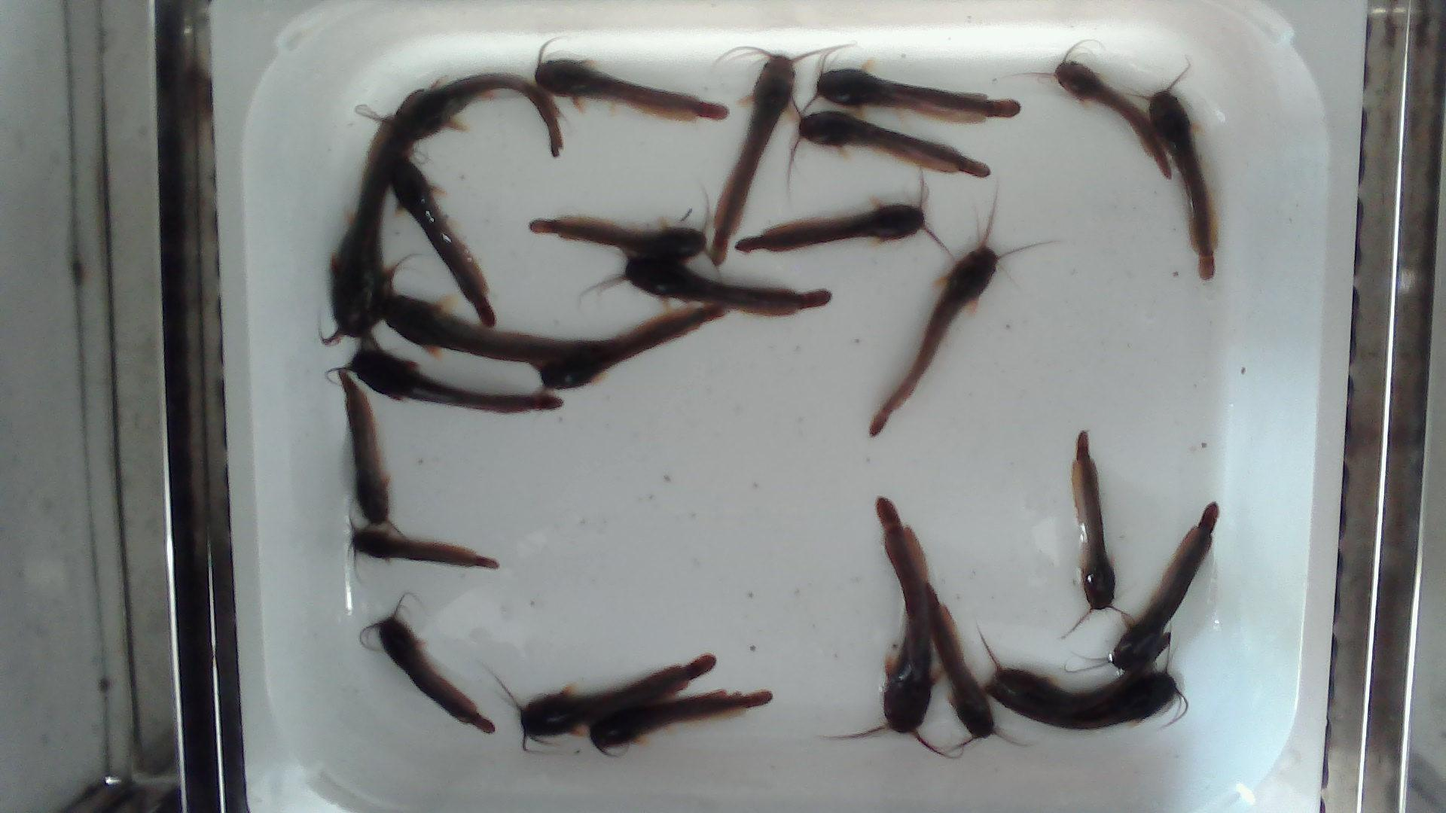lele: (872, 195, 1050, 437), (826, 500, 952, 765), (710, 44, 832, 265), (1073, 507, 1218, 672), (1119, 61, 1221, 288), (491, 654, 713, 754), (1022, 44, 1168, 174), (329, 115, 416, 333), (355, 595, 495, 730), (737, 181, 954, 261), (973, 625, 1157, 719), (393, 162, 496, 326), (386, 293, 621, 363), (932, 585, 1030, 752), (582, 249, 827, 314), (1013, 645, 1196, 731), (785, 99, 991, 175), (536, 36, 728, 116), (528, 201, 722, 280), (543, 304, 726, 387), (1066, 423, 1135, 638), (352, 347, 563, 414), (589, 690, 773, 762), (401, 75, 560, 153), (818, 67, 1020, 122), (349, 511, 496, 585), (339, 367, 391, 522)
